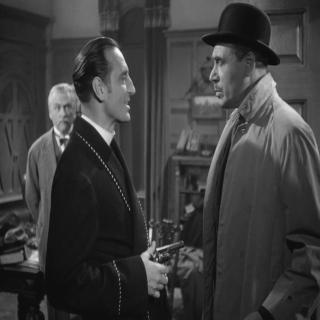gun: (145, 236, 188, 292)
